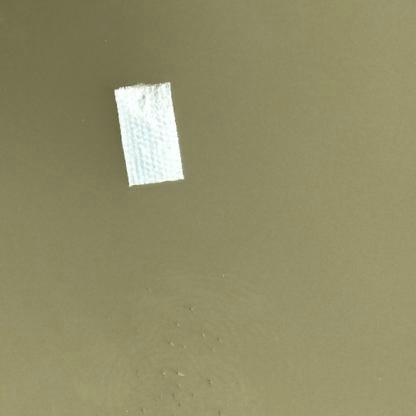Trash: (115, 79, 185, 193)
